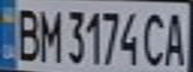1: (81, 6, 103, 65)
3: (63, 6, 84, 64)
4: (118, 8, 145, 66)
7: (100, 7, 121, 65)
A: (160, 7, 193, 68)
B: (9, 3, 42, 63)
C: (139, 8, 169, 68)
M: (33, 4, 63, 63)
